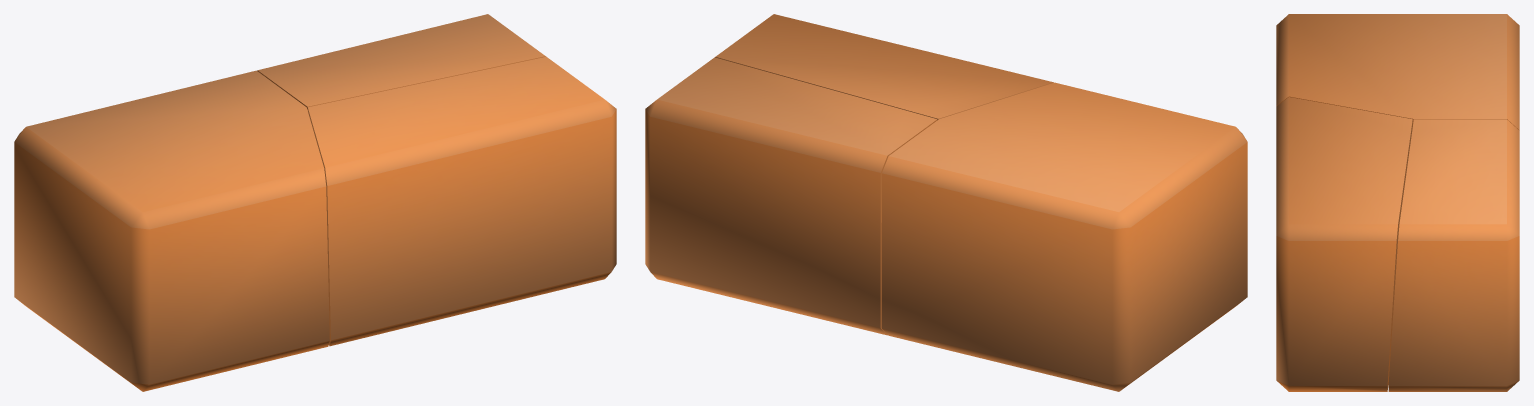
The model's file is fractured_stairs.fbx.
3 views of the same model, side by side, from view 1: azimuth 30°, elevation 25°; view 2: azimuth 150°, elevation 25°; view 3: azimuth 270°, elevation 25° (orthographic). The views are drawn at different scales.
Parts seen in each view (by area): view 1: stairs_cell.002, stairs_cell.001, stairs_cell; view 2: stairs_cell.002, stairs_cell, stairs_cell.001; view 3: stairs_cell.001, stairs_cell, stairs_cell.002.
Part boxes in pixels (<box>): stairs_cell.002: <box>14,70,329,391</box>; stairs_cell.001: <box>307,56,616,346</box>; stairs_cell: <box>257,14,545,110</box>; stairs_cell.002: <box>881,82,1247,391</box>; stairs_cell: <box>645,57,937,335</box>; stairs_cell.001: <box>715,14,1053,120</box>; stairs_cell.001: <box>1276,97,1412,391</box>; stairs_cell: <box>1388,119,1519,391</box>; stairs_cell.002: <box>1276,14,1519,133</box>.
Bounding box in the file's own units: 96.07 × 44.68 × 33.97.
